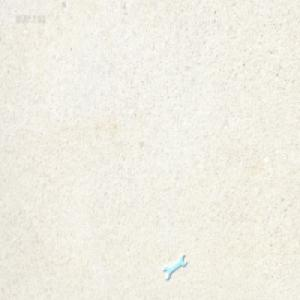Wrench: (163, 249, 188, 276)
